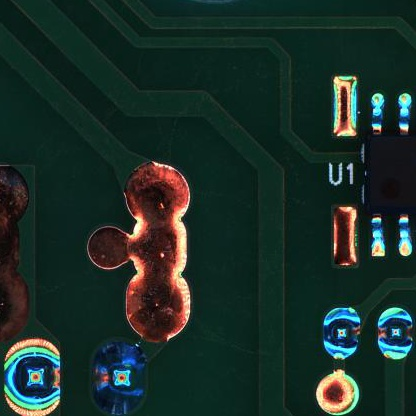spot: (3, 338, 62, 415), (90, 341, 150, 414), (322, 307, 363, 361), (378, 307, 414, 362)
